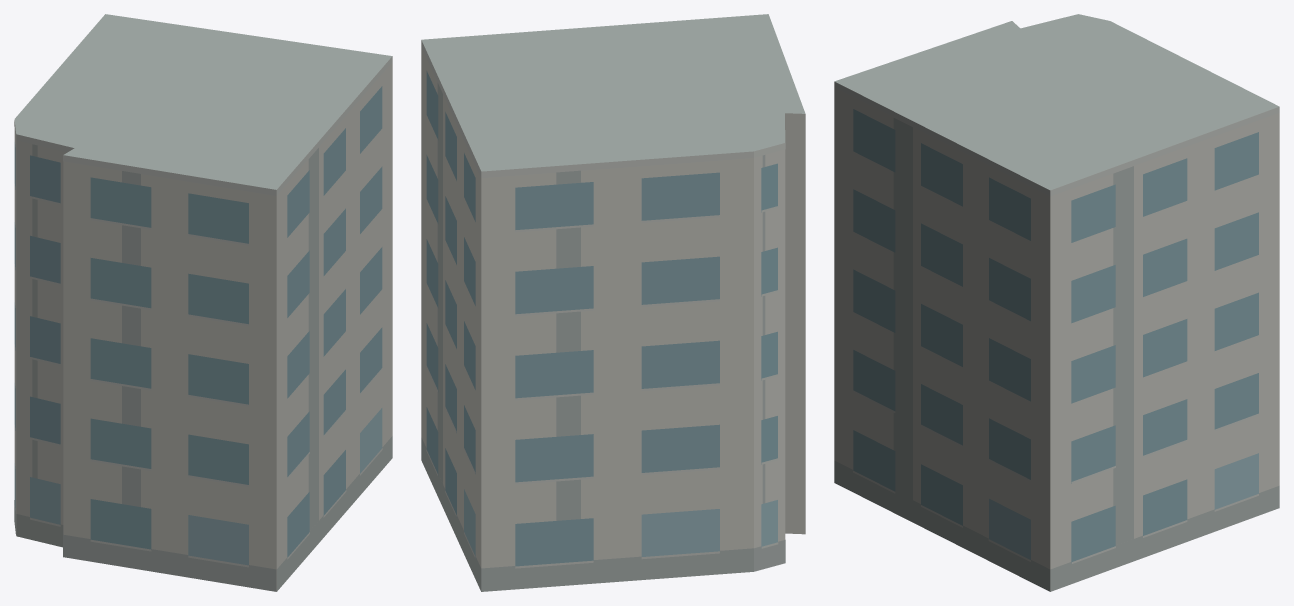
Rendered from survey-upis-32792019.glb.
3 renders of one model, left to right at view 1: azimuth 30°, elevation 25°; view 2: azimuth 150°, elevation 25°; view 3: azimuth 270°, elevation 25°, orthographic. The views are drawn at different scales.
Parts seen in each view (by area): view 1: survey-upis-32792019.tmp; view 2: survey-upis-32792019.tmp; view 3: survey-upis-32792019.tmp.
Boxes of the visible parts, bbox=[...] form: survey-upis-32792019.tmp: bbox=[14, 14, 392, 591]; survey-upis-32792019.tmp: bbox=[421, 14, 805, 591]; survey-upis-32792019.tmp: bbox=[834, 14, 1279, 591].
Bounding box in the file's own units: 15 × 15.9 × 16.
